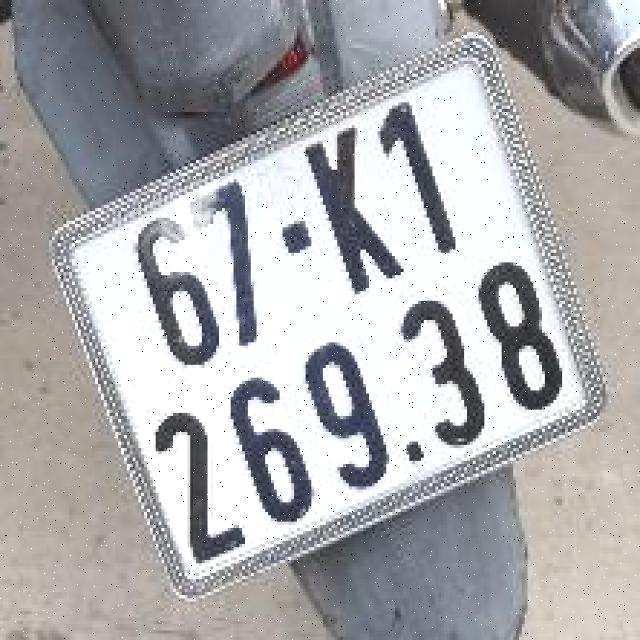1: (358, 78, 481, 274)
2: (142, 391, 258, 581)
3: (383, 279, 502, 462)
6: (214, 356, 325, 540), (124, 203, 233, 380)
7: (183, 167, 290, 368)
8: (462, 245, 582, 432)
9: (292, 331, 401, 501)
K: (287, 116, 417, 316)
